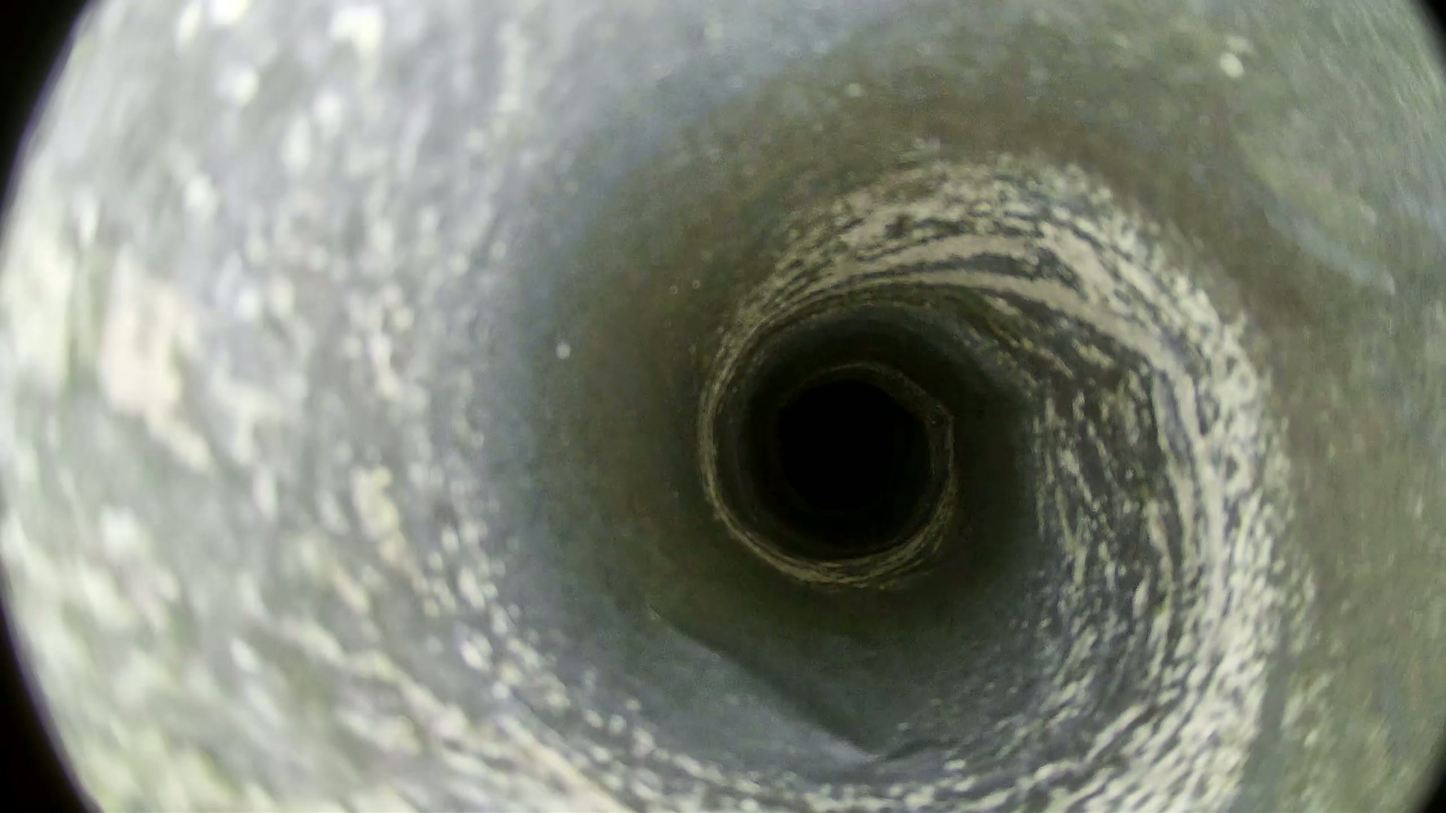hole: (782, 390, 893, 509)
